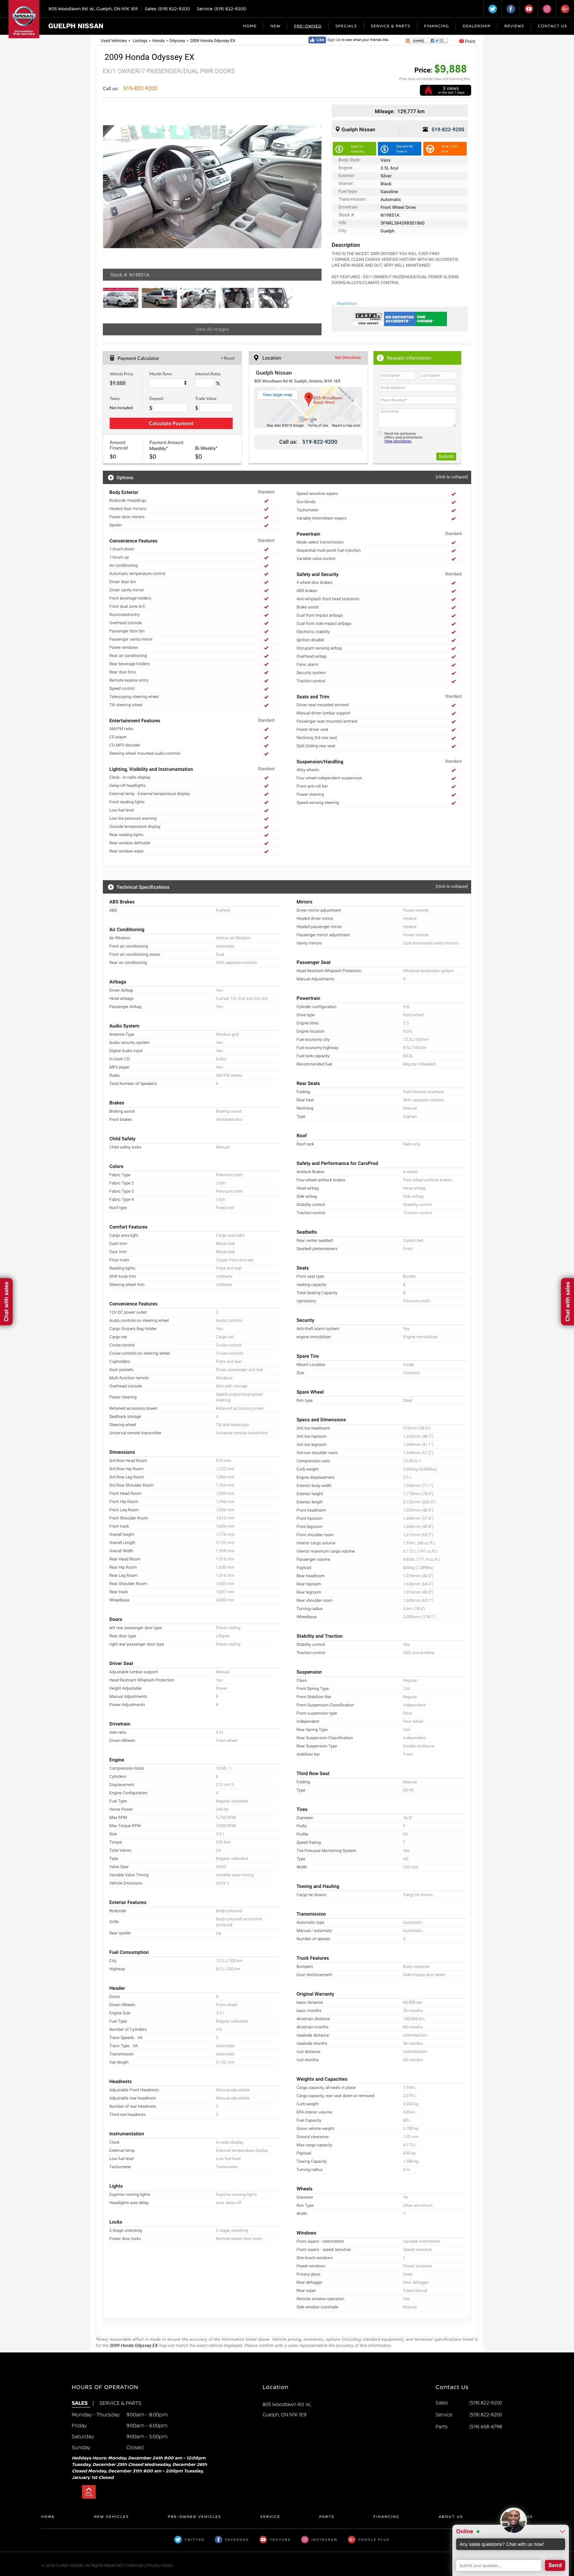car: (308, 179, 323, 194)
